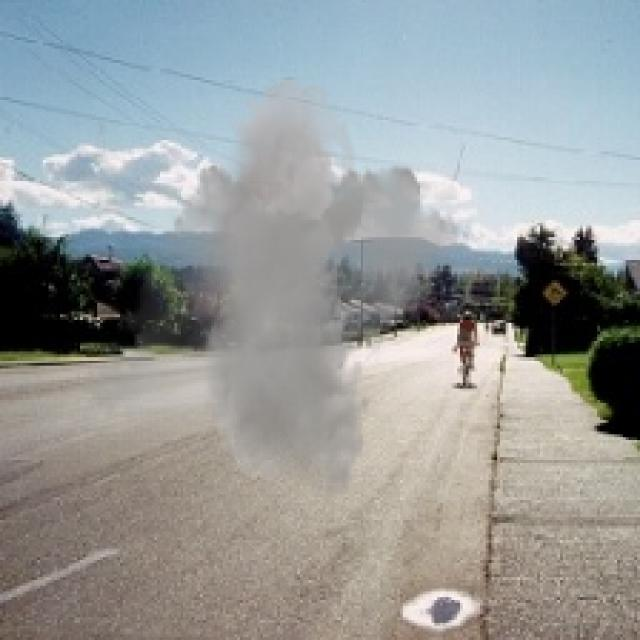smoke: (77, 77, 472, 500)
